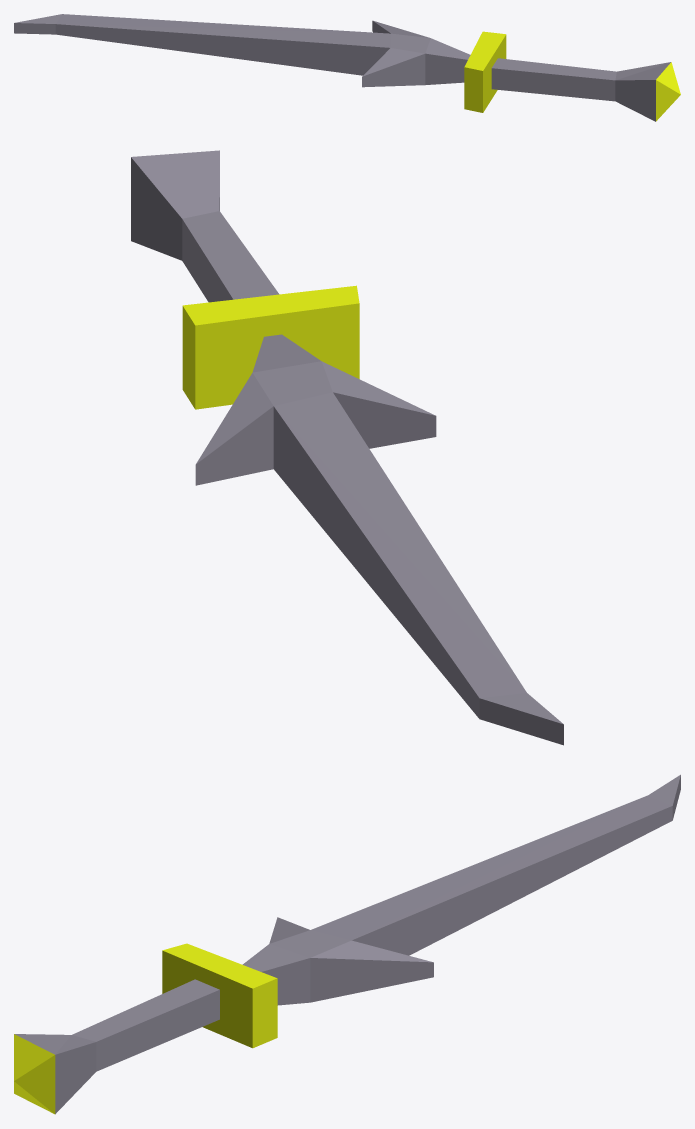
File: inv_silverlight.obj
3 views of the same model, one above another, from view 1: azimuth 30°, elevation 25°; view 2: azimuth 150°, elevation 25°; view 3: azimuth 270°, elevation 25° (orthographic). The views are drawn at different scales.
Size of the model in its own units: 0.6797 by 0.0625 by 0.6328.
